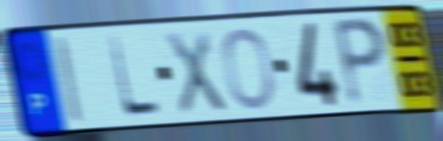4: (296, 19, 344, 111)
I: (52, 33, 86, 127)
L: (105, 33, 164, 119)
O: (220, 25, 278, 112)
P: (329, 14, 389, 109)
X: (162, 28, 230, 118)
